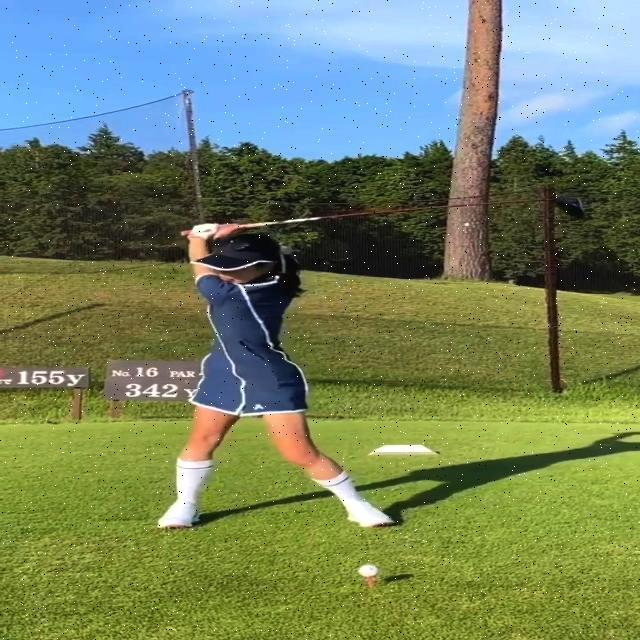ClubHead: (555, 197, 586, 220)
GolfBall: (359, 564, 380, 576)
